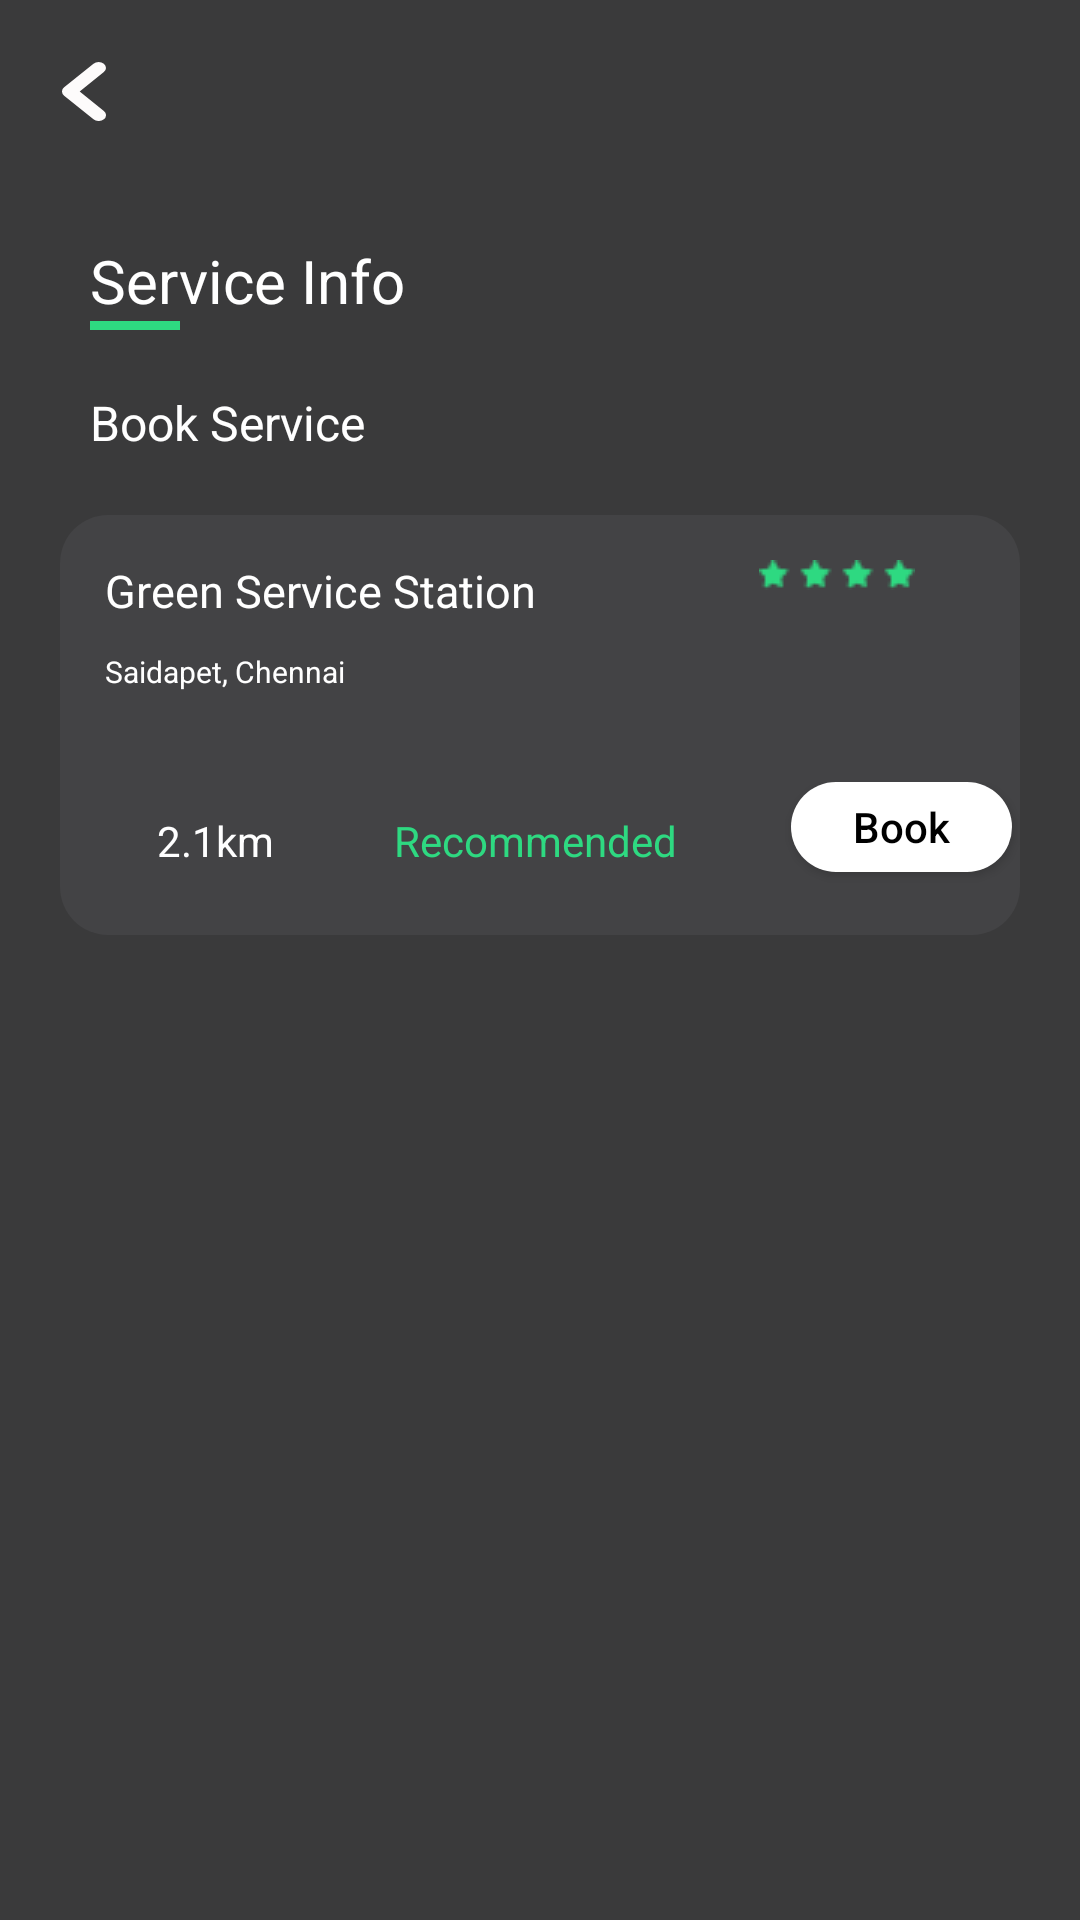

Icon click points for this 1080×1920 phone screenshot, format (x=x, y=y):
back: (x=84, y=91)
rating: (x=837, y=574)
